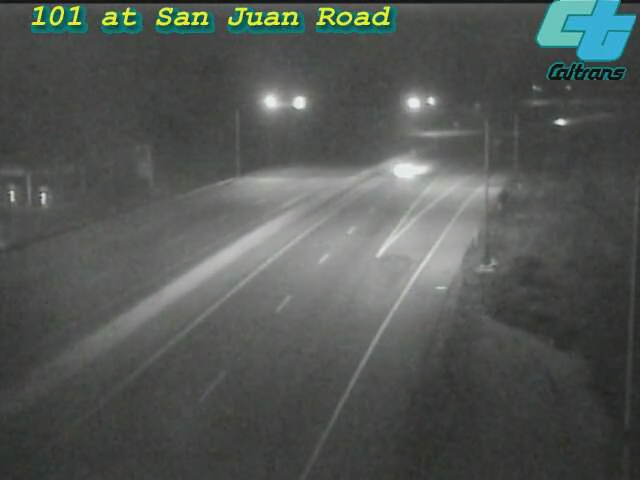vehicle: (370, 129, 450, 209), (536, 97, 586, 147)
